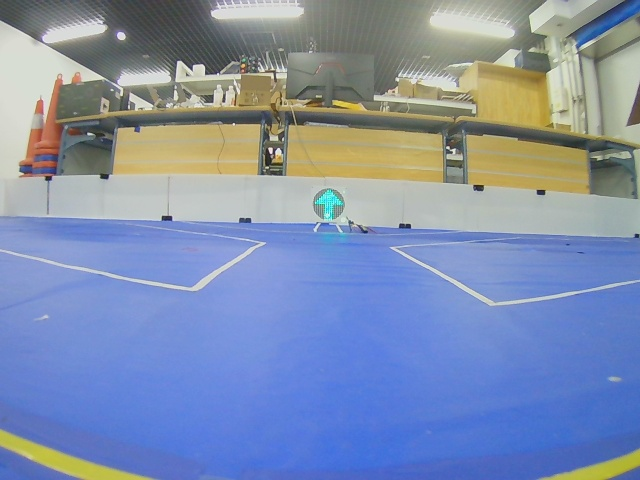straight_green: (313, 188, 345, 221)
